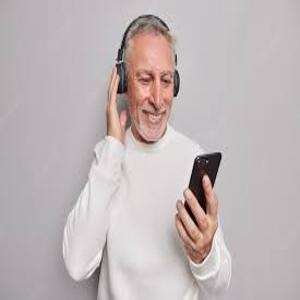Headphones: (112, 14, 181, 96)
